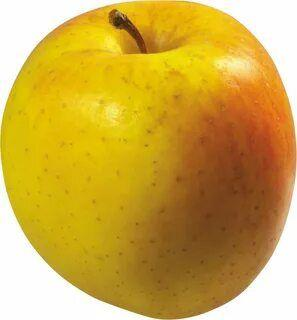Apple: (0, 4, 297, 318)
